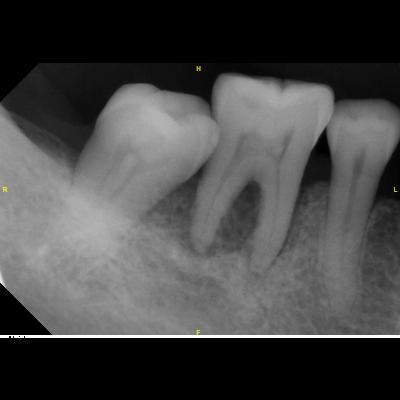tooth: (320, 96, 400, 322)
